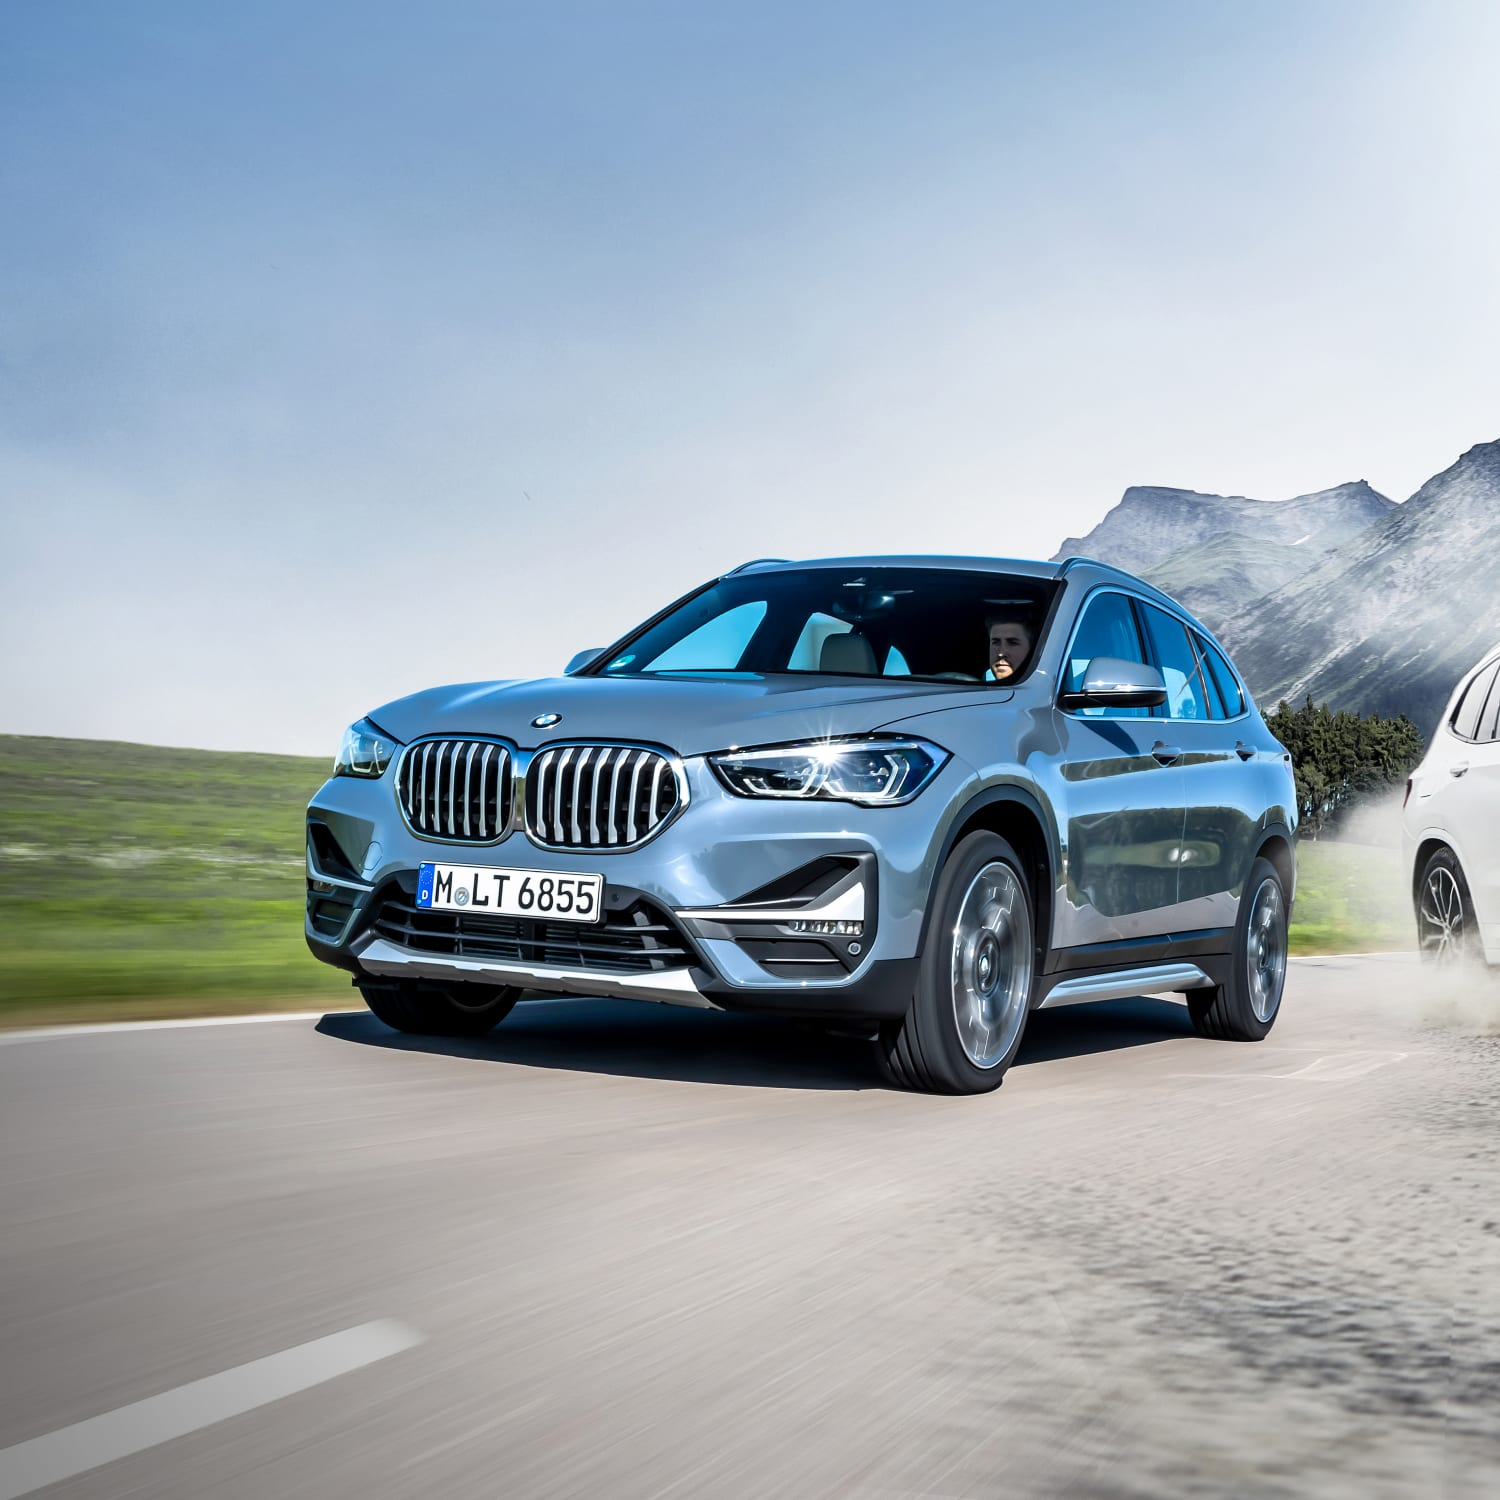car: (299, 555, 1299, 1096)
